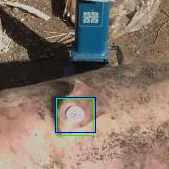text: (56, 98, 93, 135)
